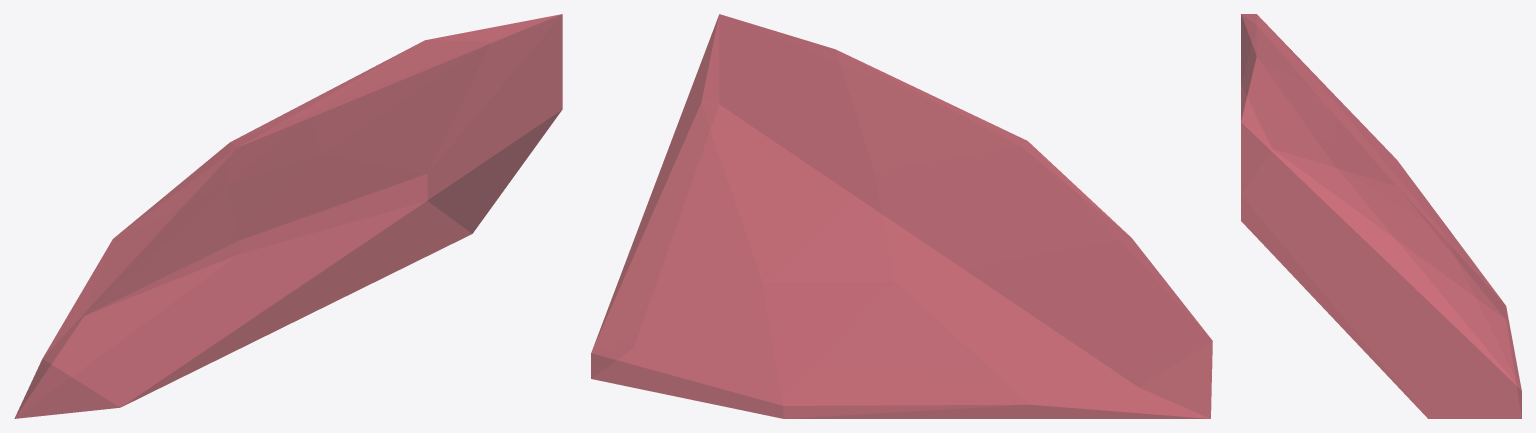
3 renders of one model, left to right at view 1: azimuth 30°, elevation 25°; view 2: azimuth 150°, elevation 25°; view 3: azimuth 270°, elevation 25°, orthographic. The views are drawn at different scales.
Visible parts, largest first — view 1: Shape_IndexedFaceSet.062_Shape_IndexedFaceSet.491; view 2: Shape_IndexedFaceSet.062_Shape_IndexedFaceSet.491; view 3: Shape_IndexedFaceSet.062_Shape_IndexedFaceSet.491.
Part boxes in pixels (x1=…): Shape_IndexedFaceSet.062_Shape_IndexedFaceSet.491: x1=14, y1=14, x2=562, y2=418; Shape_IndexedFaceSet.062_Shape_IndexedFaceSet.491: x1=591, y1=14, x2=1212, y2=418; Shape_IndexedFaceSet.062_Shape_IndexedFaceSet.491: x1=1241, y1=14, x2=1521, y2=418.
Bounding box in the file's own units: 0.1739 × 0.089 × 0.0763.
